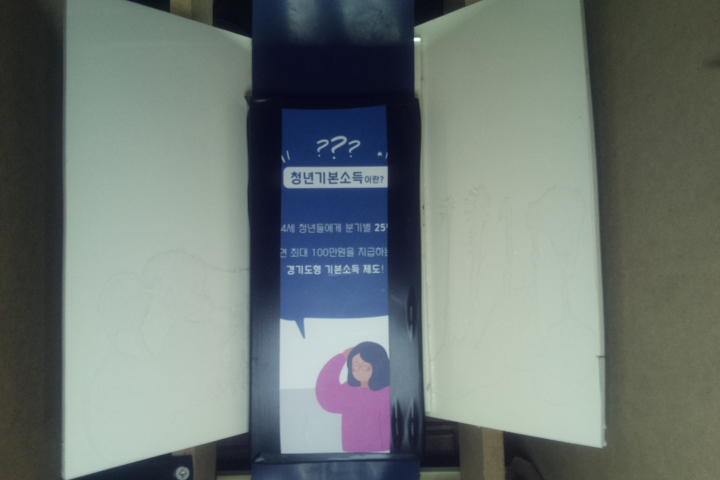book: (246, 96, 423, 469)
